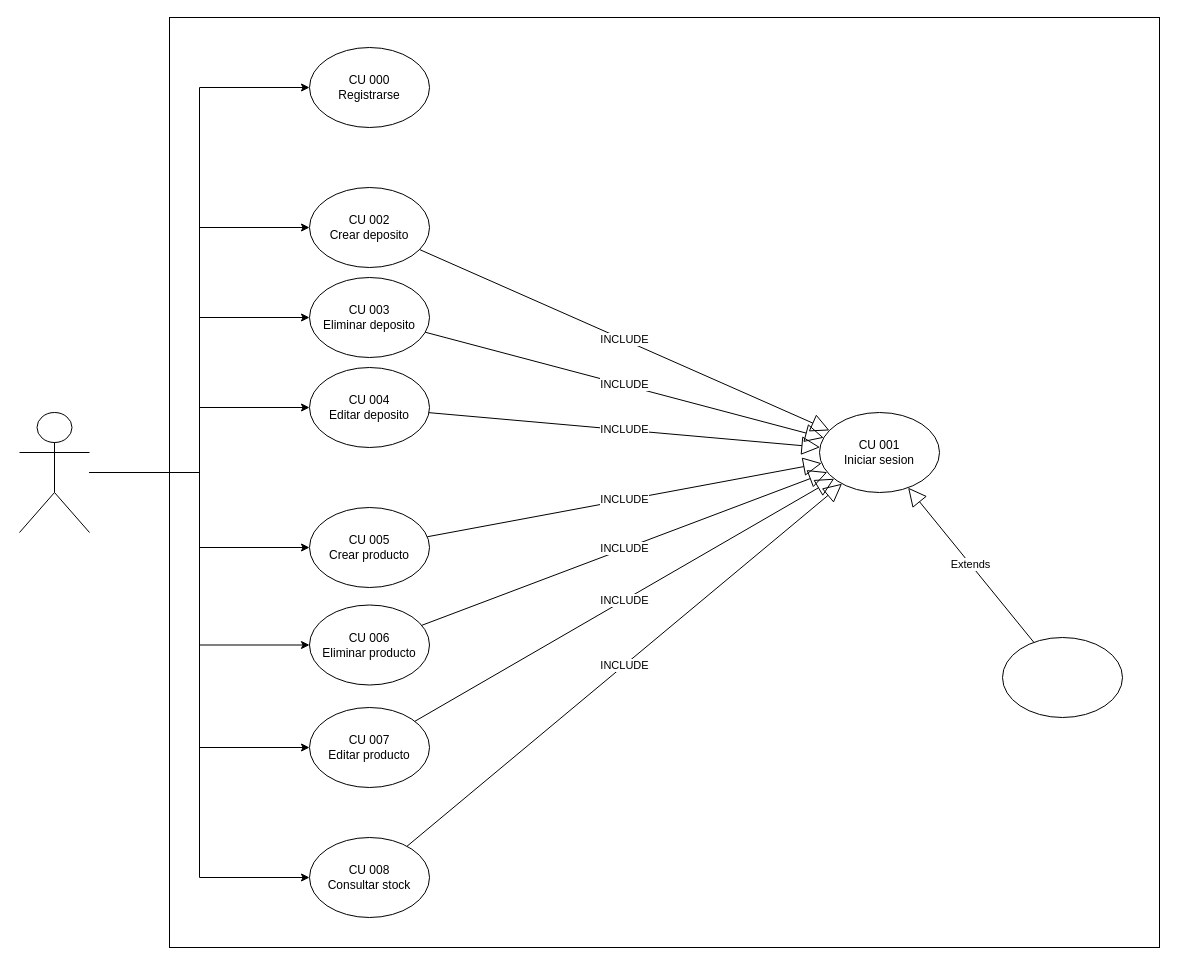
Image size: 1177x973. Some labels were removed from this diagram. Each missing label, with the centre of its shape:
"Administrador" belongs at pixel 54 472.
"CU 012 Registrar ingreso de usuario" belongs at pixel 1062 677.
